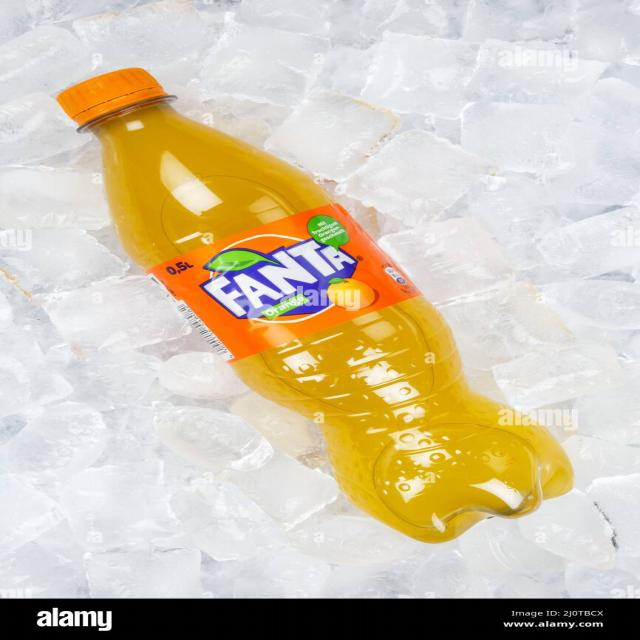Soda: (56, 69, 575, 545)
